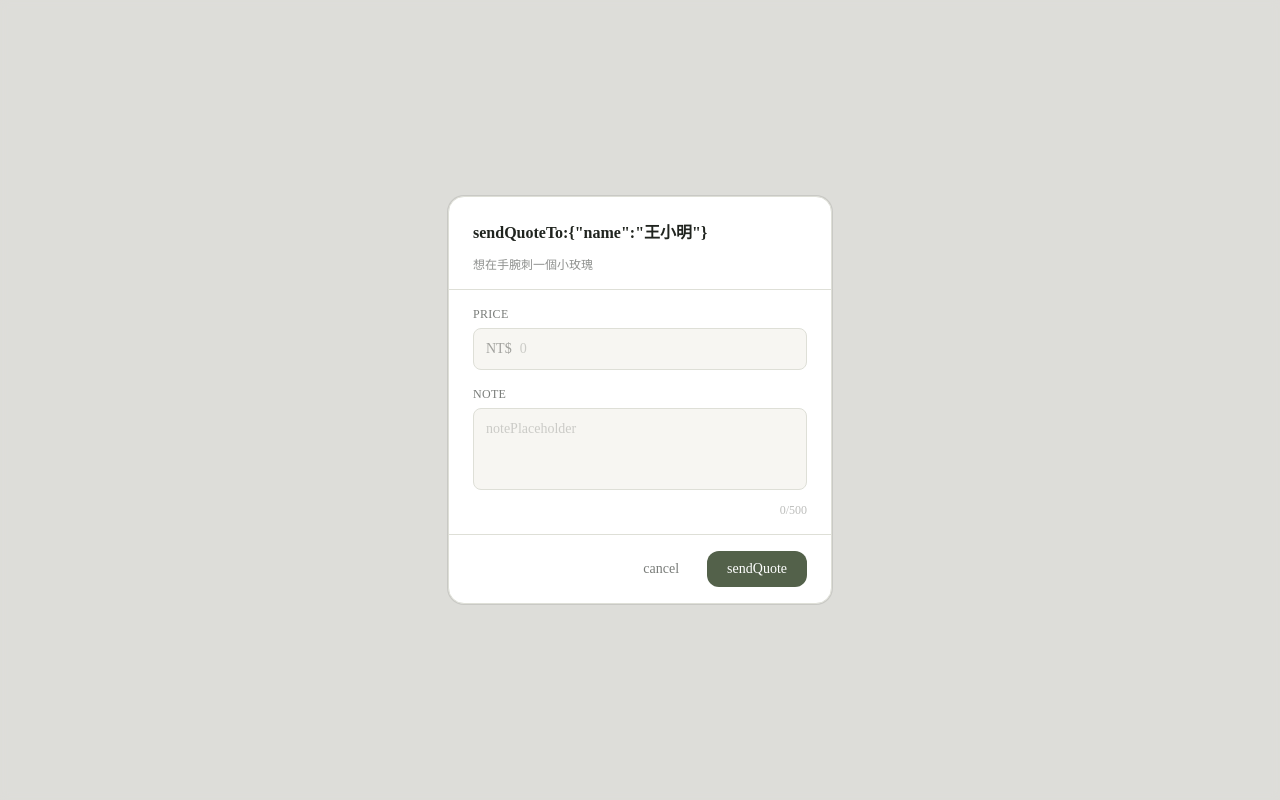
Test: QuoteFormModal › shows error when price is negative
Type "-100" into the number field labelled "price". click: (659, 349)
box: top-left (512, 329), bottom-right (806, 369)
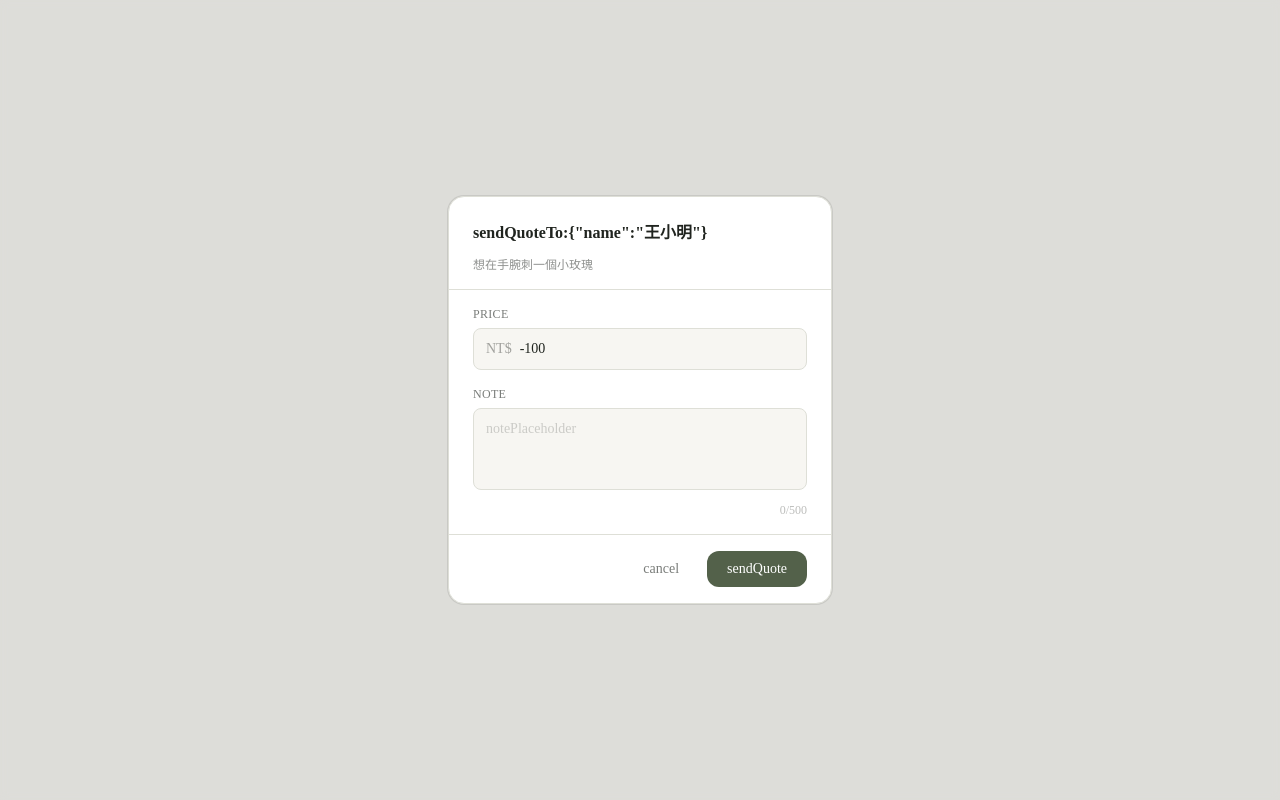
Click the button "sendQuote". click: (757, 569)
box: top-left (707, 551), bottom-right (807, 587)
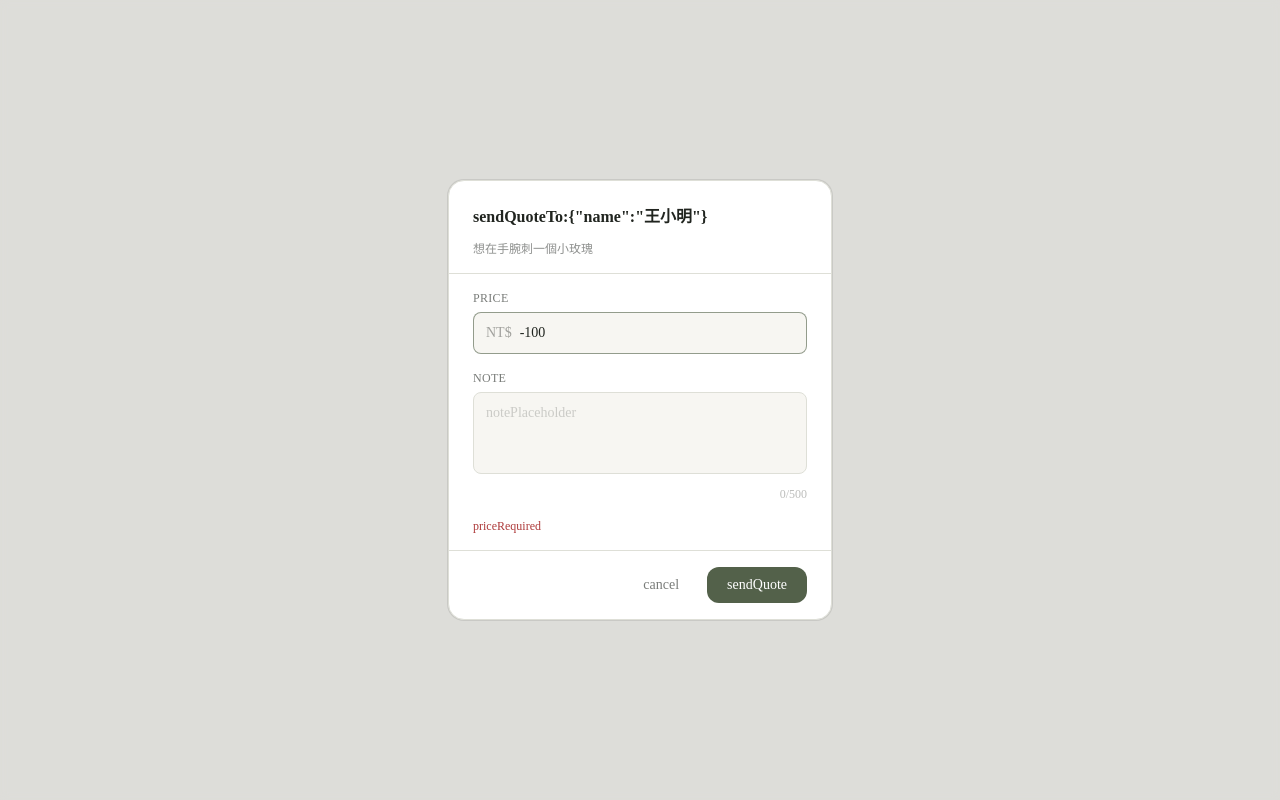
Expected: the text "priceRequired" is shown, top-left (473, 519), bottom-right (541, 533)
